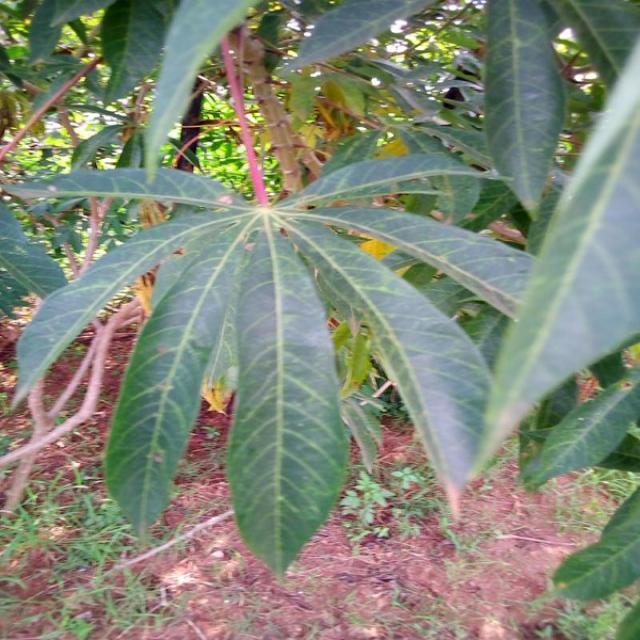cassava leaf: (2, 1, 638, 584), (226, 215, 350, 582), (482, 0, 568, 220)
